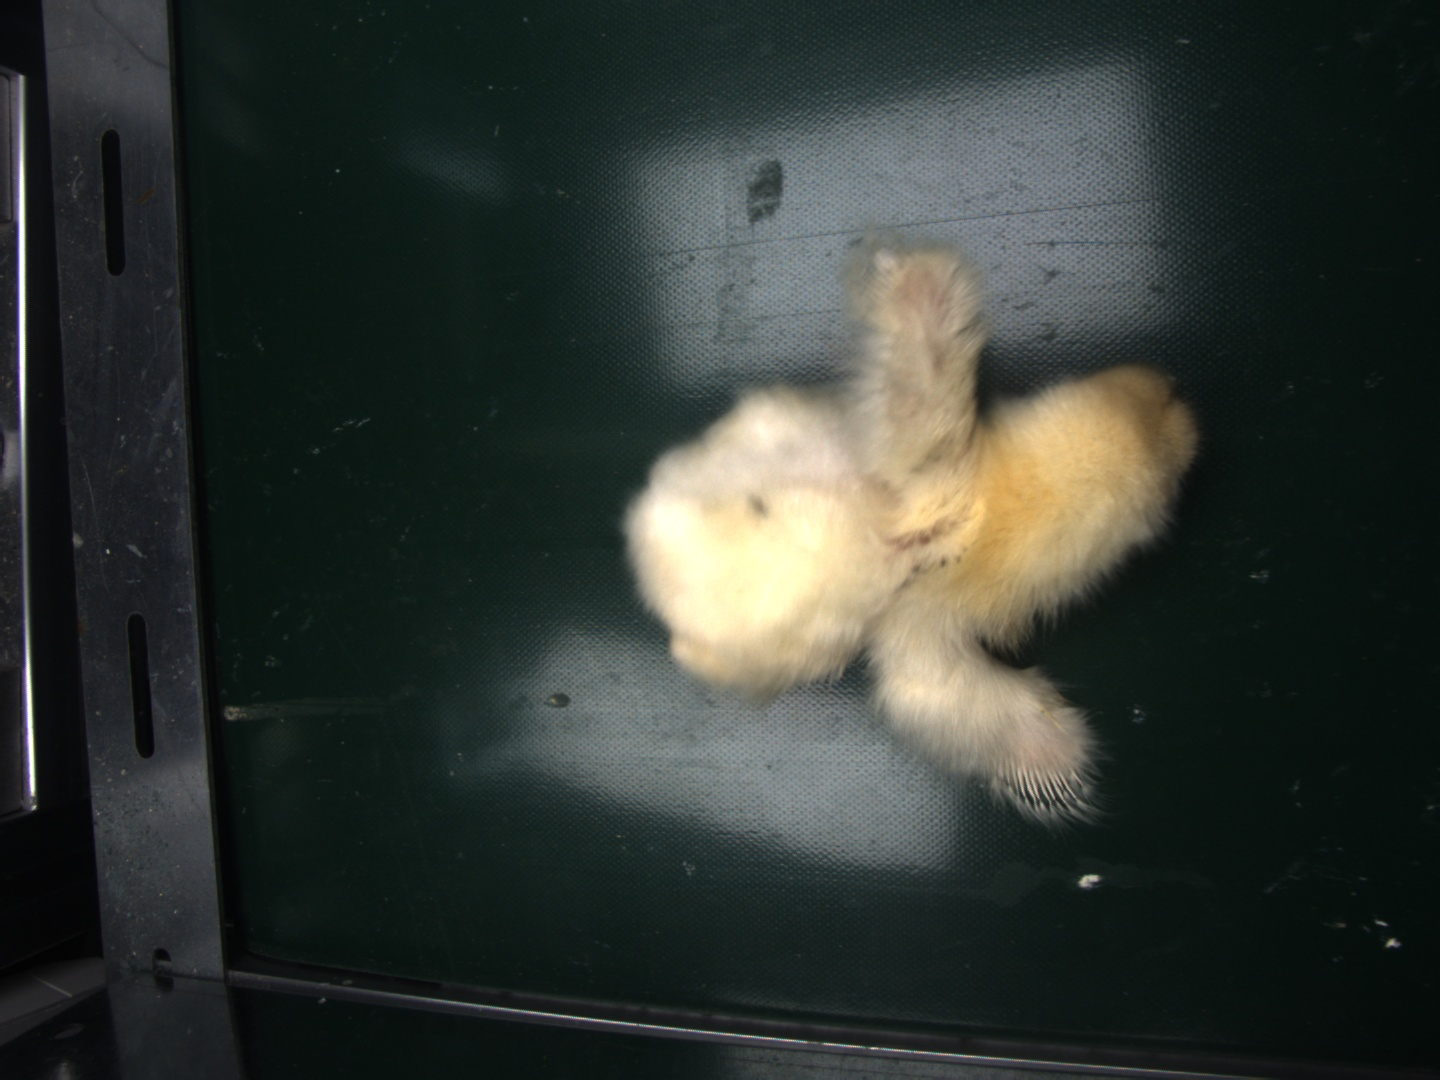male: (1013, 763, 1084, 809)
